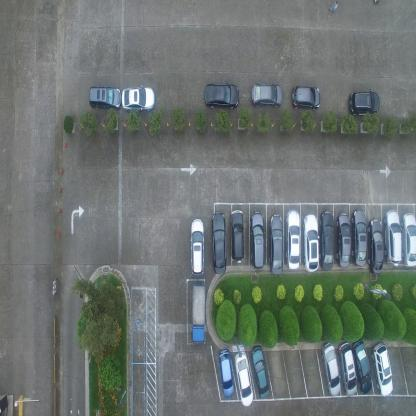car: (372, 341, 393, 396), (338, 340, 358, 397), (320, 340, 340, 396), (352, 338, 372, 394), (384, 209, 402, 268), (210, 212, 227, 274), (235, 350, 253, 408), (251, 345, 270, 399), (302, 212, 319, 272), (189, 218, 206, 277), (191, 282, 207, 344), (201, 82, 239, 108), (268, 212, 283, 276), (352, 208, 368, 268), (120, 86, 156, 112), (336, 210, 352, 268), (250, 210, 265, 270), (348, 89, 379, 118), (286, 207, 300, 271), (368, 218, 384, 274), (250, 81, 284, 107), (88, 85, 122, 110), (401, 212, 416, 268), (320, 210, 334, 270), (218, 348, 234, 398), (290, 84, 320, 110), (231, 208, 244, 263)
